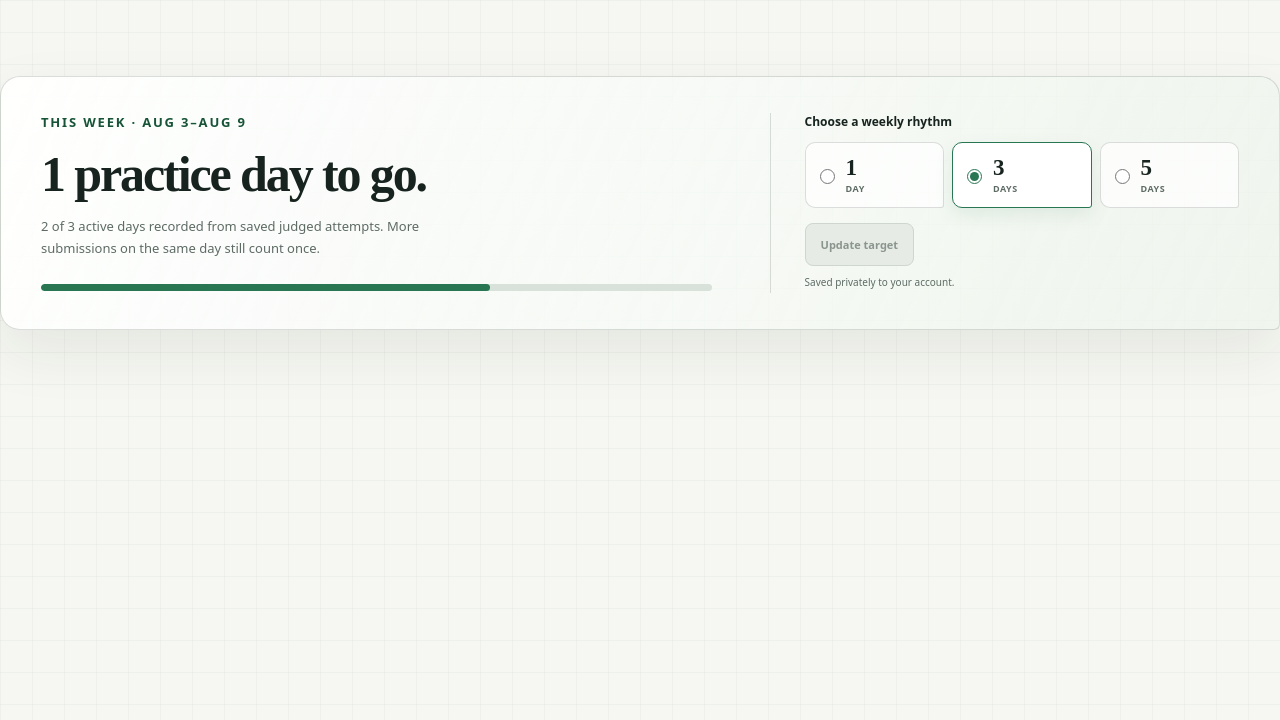
Test: CodingPracticeGoal › keeps a newer target choice visibly unsaved when an older save returns
Click the radio button labelled "5 days": (1122, 176) [1114,169,1130,184]
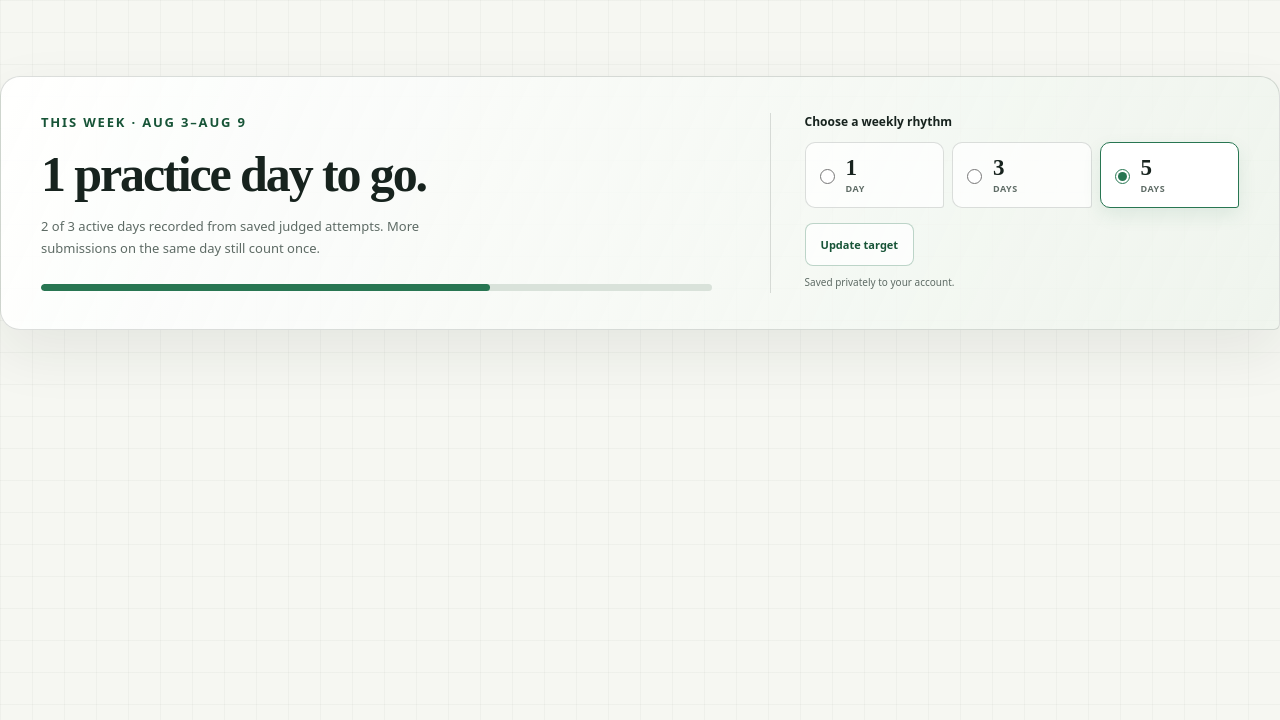
Click the button "Update target": (859, 244) [805,223,914,266]
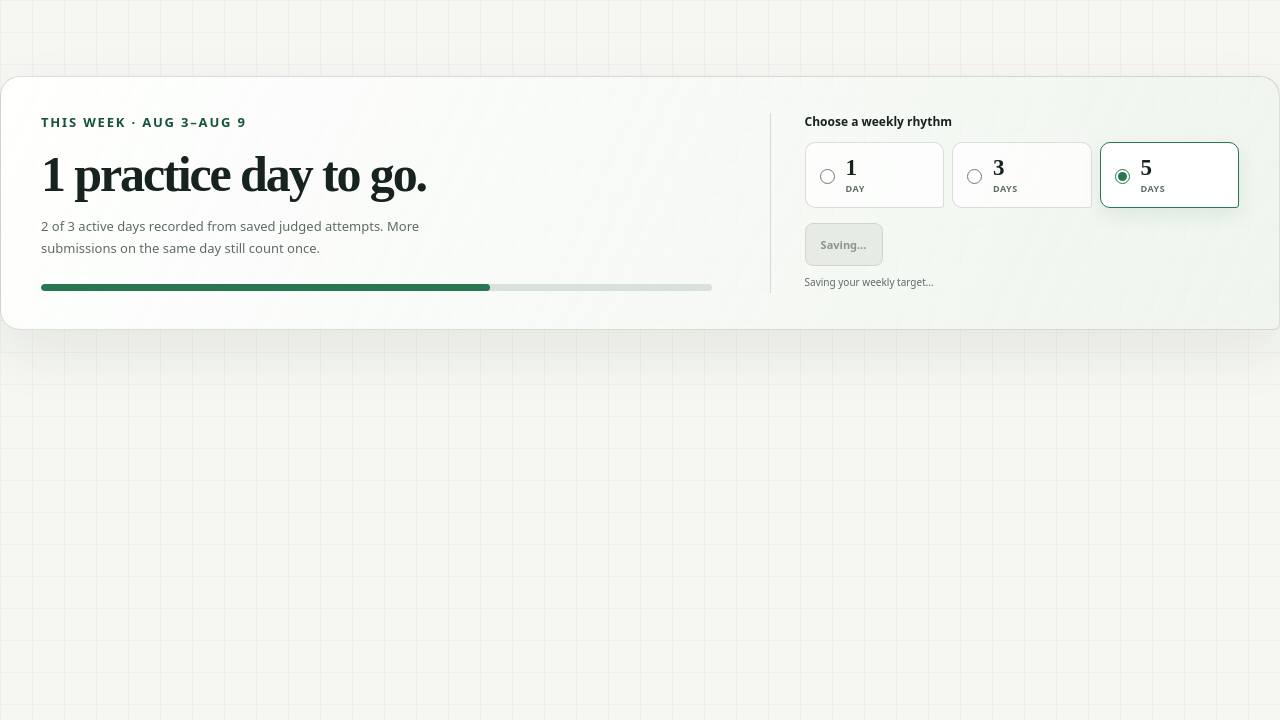
Click the radio button labelled "1 day": (827, 176) [820,169,835,184]
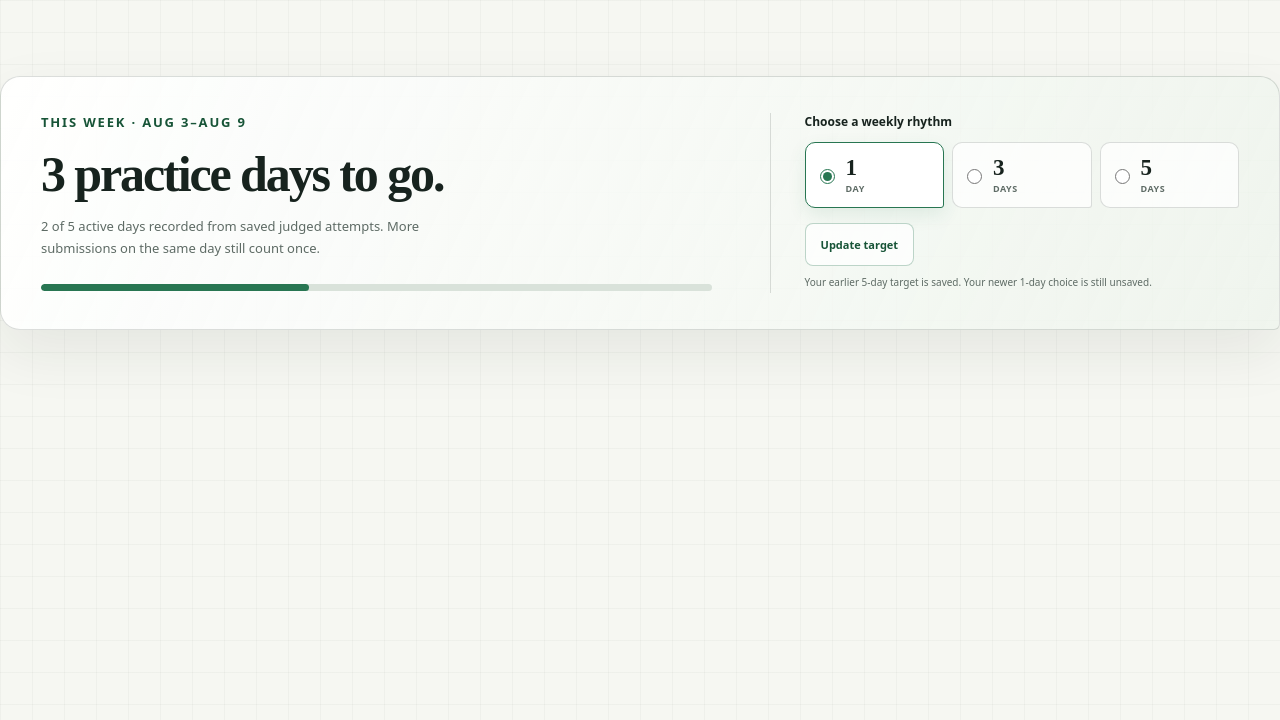
Expected: the radio button labelled "1 day" is checked, [820,169,835,184]
Expected: the text "Your earlier 5-day target is saved. Your newer 1-day choice is still unsaved." is shown, [805,275,1152,289]
Expected: the heading "3 practice days to go." is shown, [41,146,443,202]
Click the button "Update target": (859, 244) [805,223,914,266]
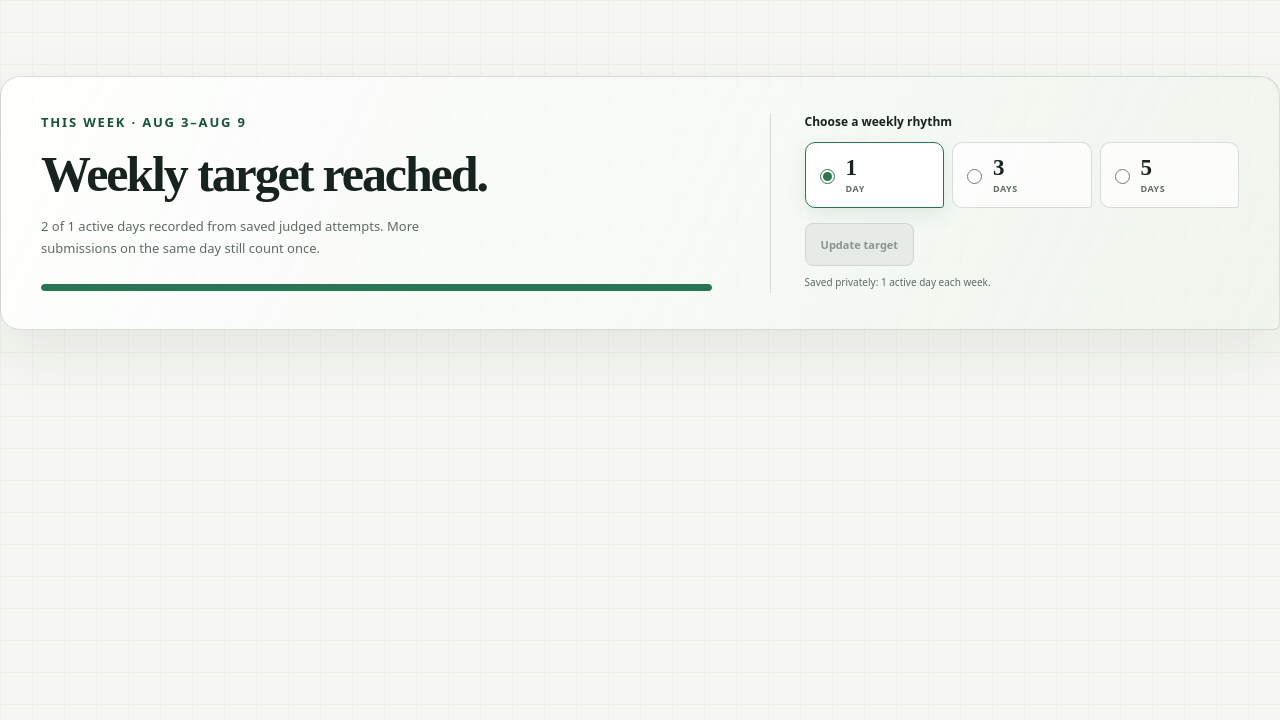
Expected: the text "Saved privately: 1 active day each week." is shown, [805,275,991,289]
